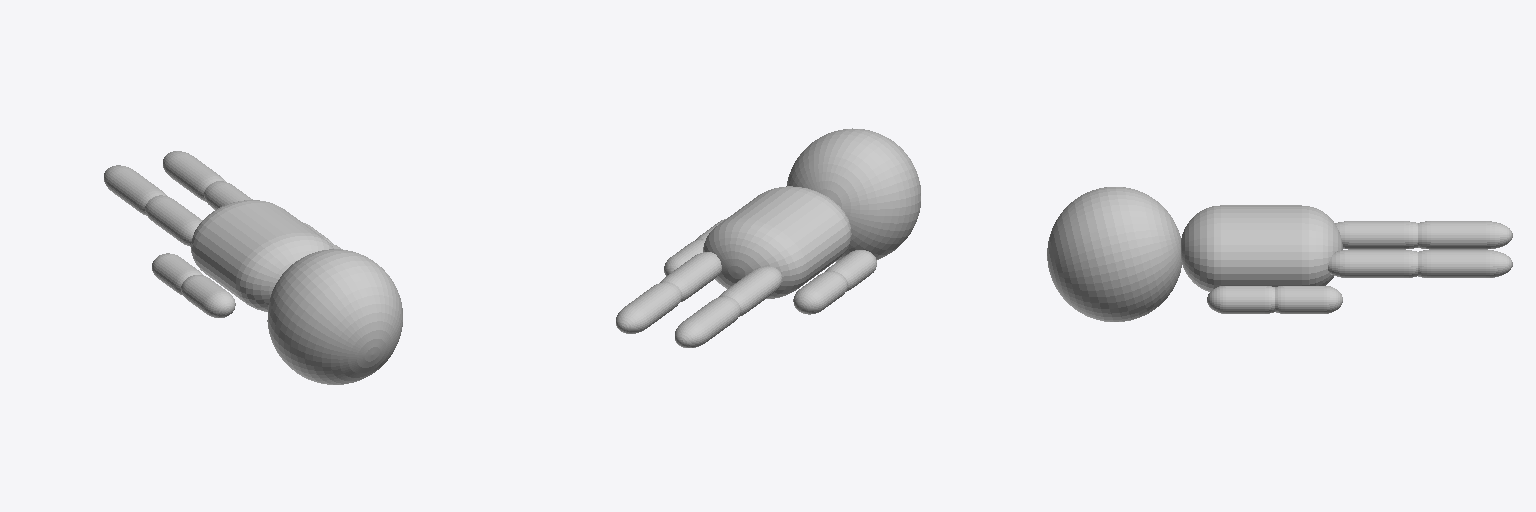
Rendered from tinker 1.obj.
3 renders of one model, left to right at view 1: azimuth 30°, elevation 25°; view 2: azimuth 150°, elevation 25°; view 3: azimuth 270°, elevation 25°, orthographic.
Parts seen in each view (by area): view 1: obj_0; view 2: obj_0; view 3: obj_0.
Boxes of the visible parts, x1,y1,x2,y2 form: obj_0: [104, 151, 402, 384]; obj_0: [616, 128, 920, 347]; obj_0: [1047, 187, 1512, 321].
Bounding box in the file's own units: 27 × 19.95 × 68.53.